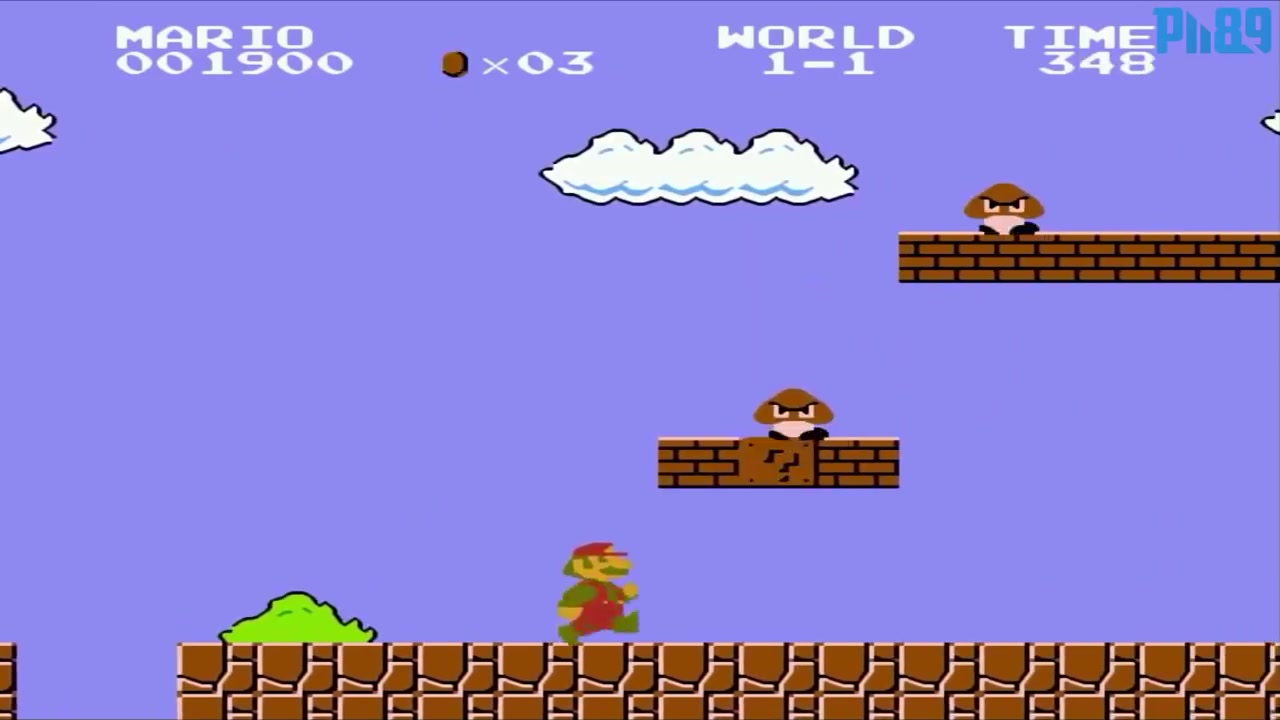mario: (555, 530, 645, 646)
